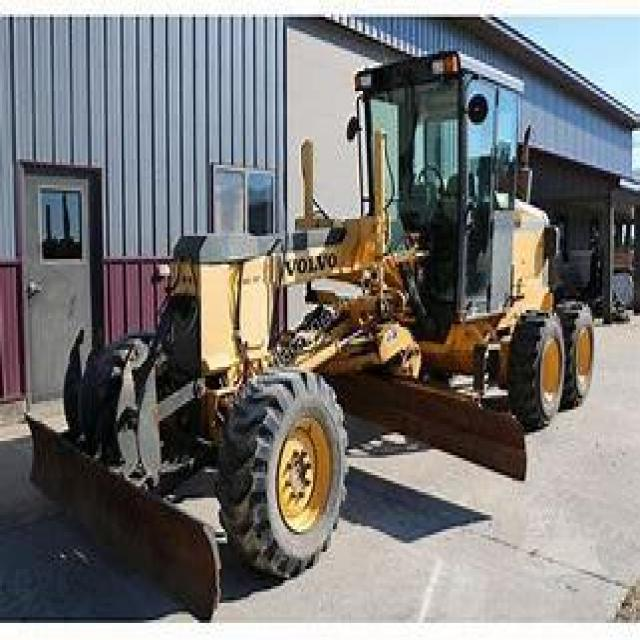Grader: (20, 57, 624, 580)
